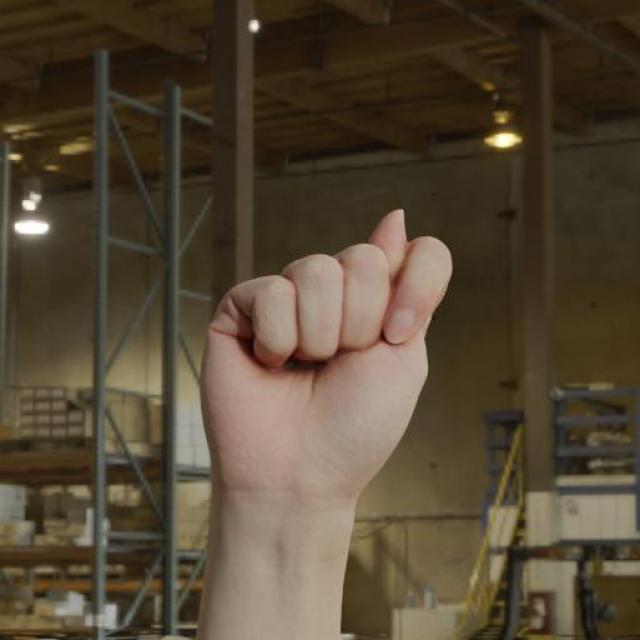T: (189, 203, 455, 509)
